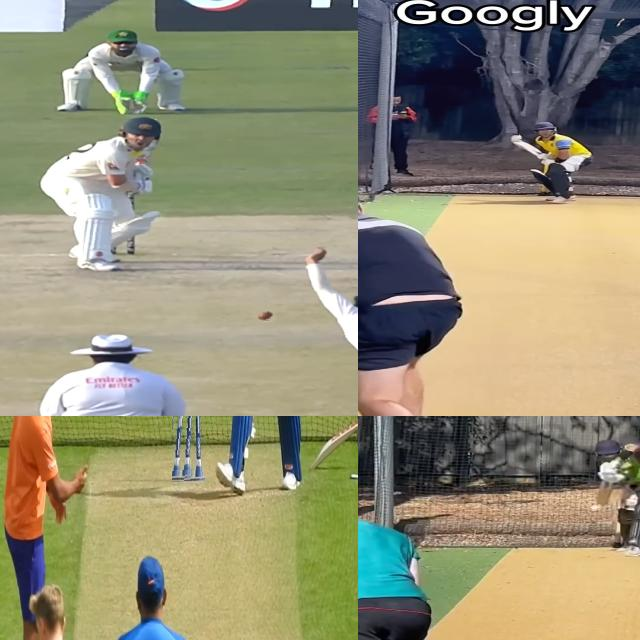Cricket ball: (258, 311, 274, 321), (510, 134, 523, 142), (589, 504, 602, 512)
Stumps: (172, 416, 204, 482)
